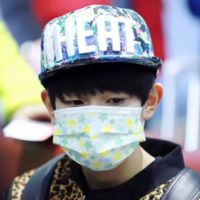face_mask: (52, 64, 143, 169)
